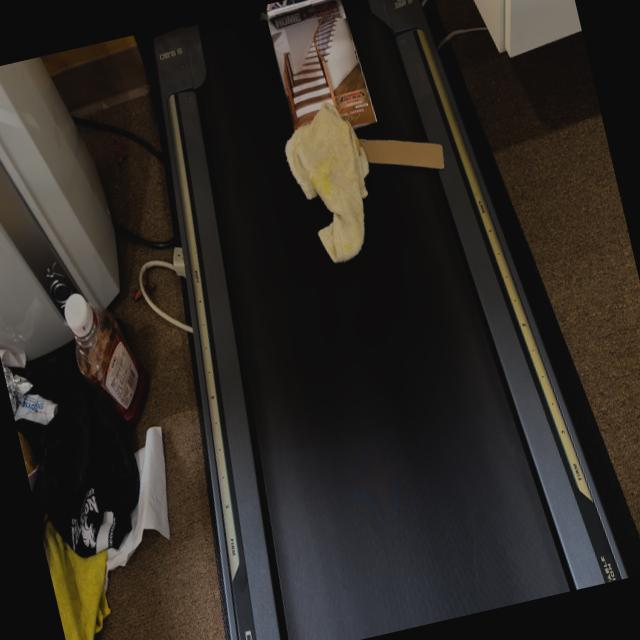Recycle: (259, 0, 377, 136), (351, 109, 450, 195)
Trash: (278, 105, 390, 273)
